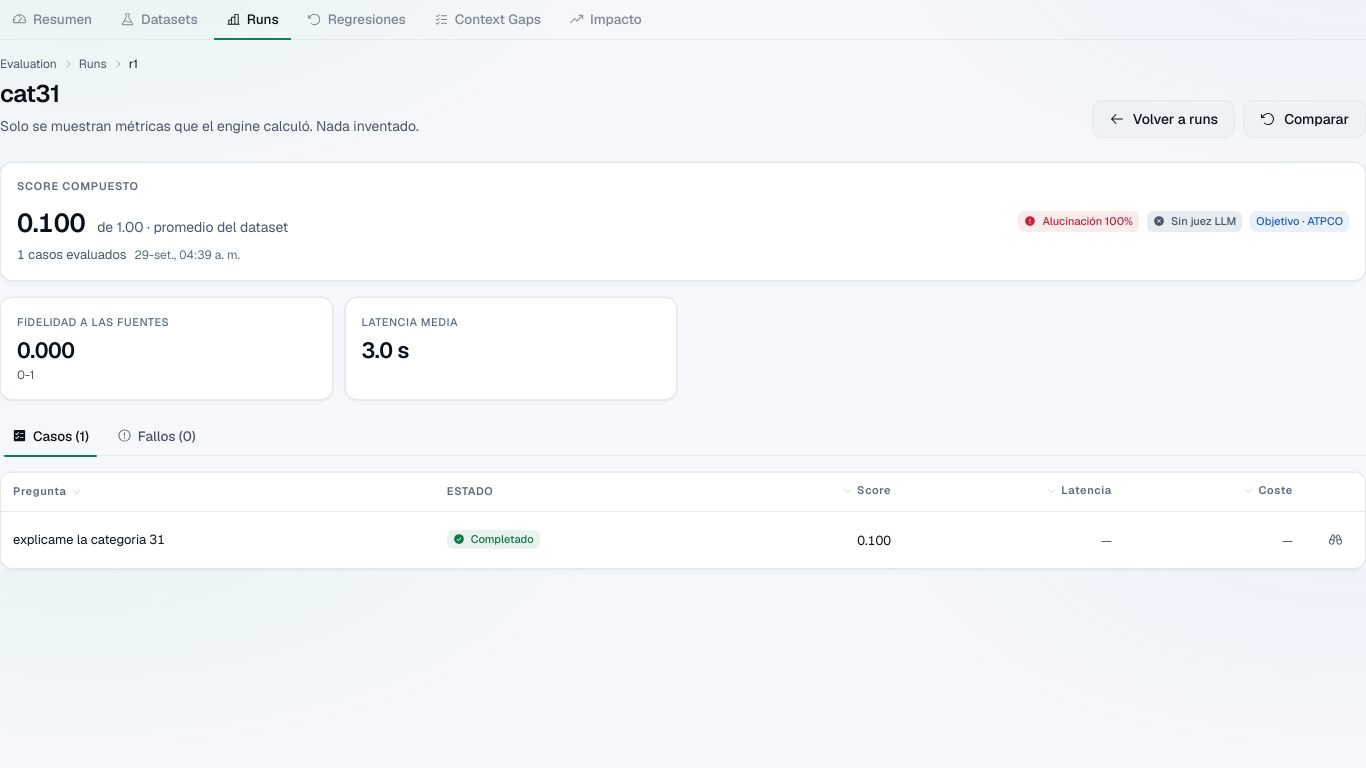
Scenario: Evaluación · detalle del run › explica la abstención y el objetivo del run
expect the text "Objetivo · ATPCO" is shown: met, box [1250,211,1349,232]
Click the button named "Ver evidencia de".
click(1335, 540)  # box [1317,522,1353,558]
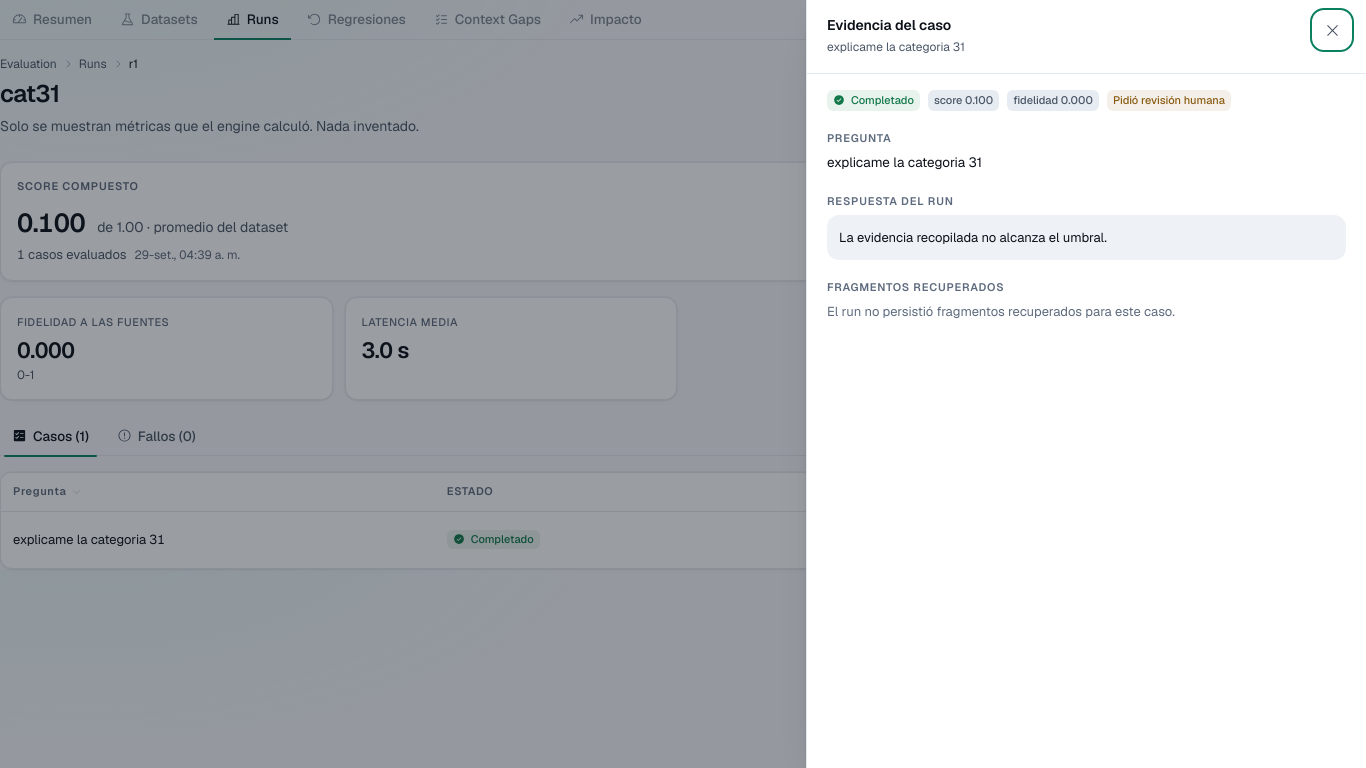
expect the text "Pidió revisión humana" is shown: met, box [1107,90,1231,111]
